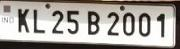0: (137, 11, 150, 37), (121, 10, 134, 35)
1: (155, 12, 165, 36)
2: (105, 10, 119, 34), (51, 9, 63, 33)
5: (66, 9, 79, 34)
B: (86, 9, 99, 35)
K: (17, 6, 29, 32)
L: (32, 8, 45, 33)
